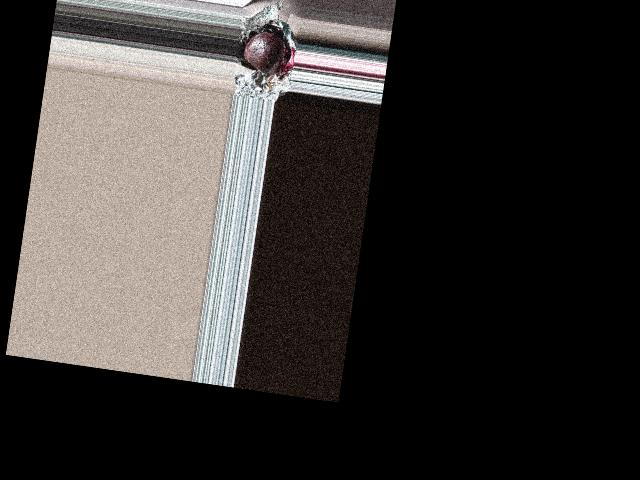beet: (241, 29, 286, 76)
